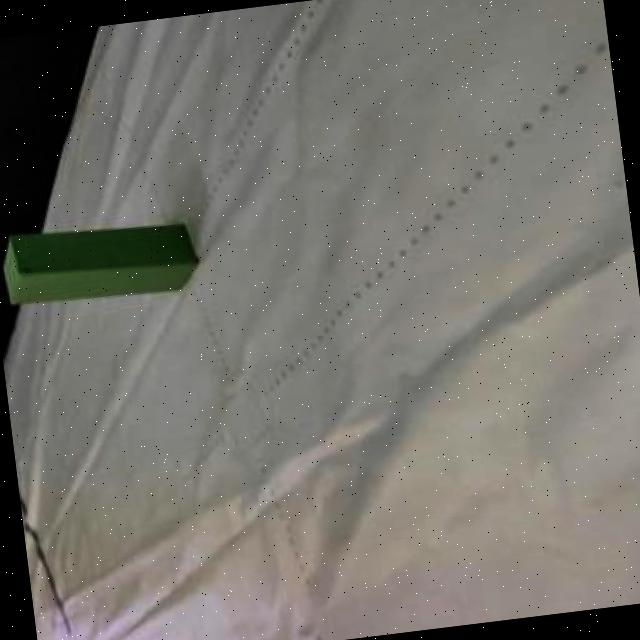greenbox: (0, 213, 201, 309)
